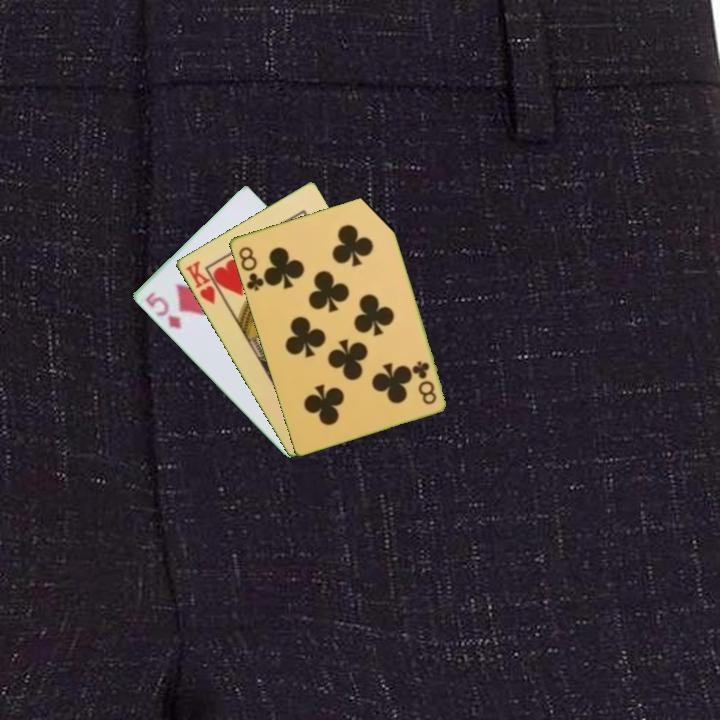5d: (141, 287, 185, 332)
8c: (235, 243, 267, 294), (409, 357, 439, 407)
Kh: (182, 257, 227, 307)
